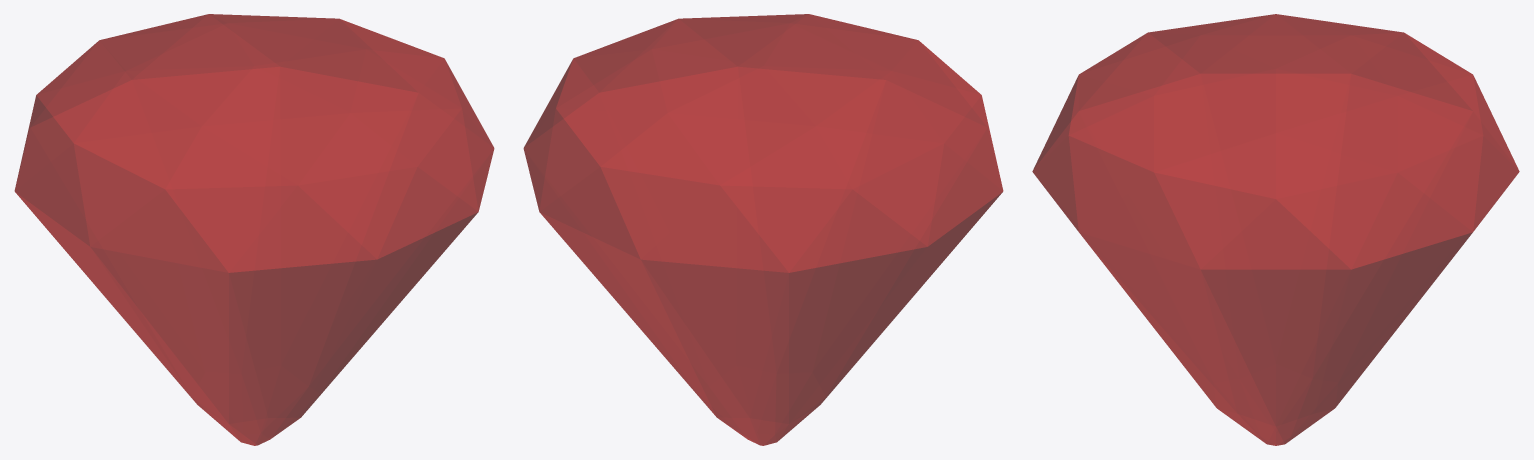
Rendered from lazerWarning.obj.
The picture shows the model from 3 angles, left to right: view 1: azimuth 30°, elevation 25°; view 2: azimuth 150°, elevation 25°; view 3: azimuth 270°, elevation 25°; orthographic projection.
Visible parts, largest first — view 1: dimonda_Icosphere; view 2: dimonda_Icosphere; view 3: dimonda_Icosphere.
Boxes of the visible parts, x1,y1,x2,y2 form: dimonda_Icosphere: (14,14,494,445); dimonda_Icosphere: (523,14,1003,445); dimonda_Icosphere: (1032,14,1519,445).
Size of the model in its own units: 0.5119 by 0.4597 by 0.5382.
